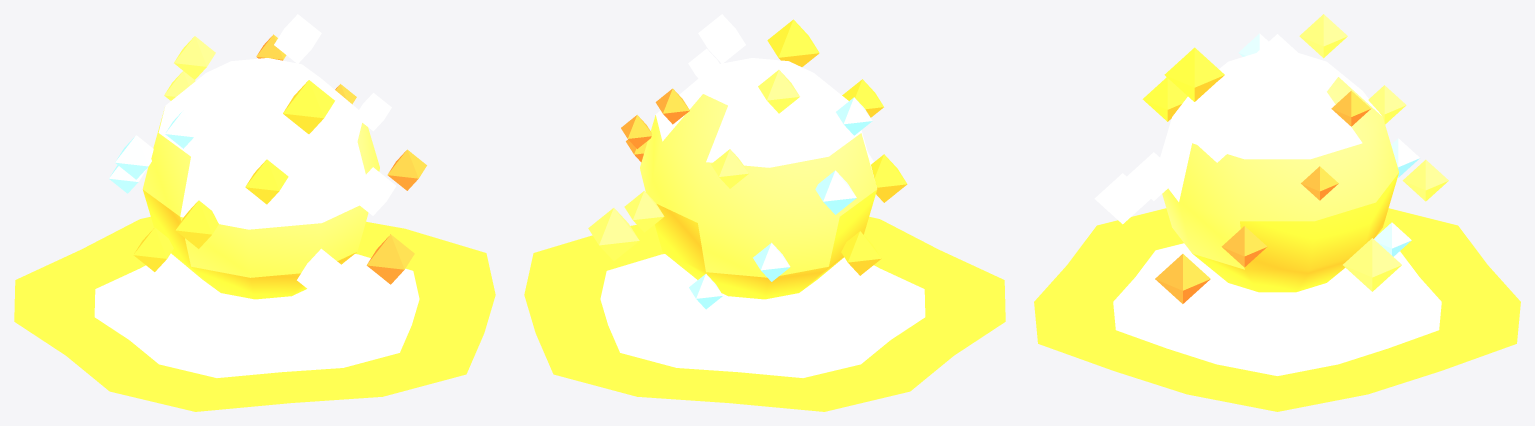
The model's file is star_cluster.glb.
3 renders of one model, left to right at view 1: azimuth 30°, elevation 25°; view 2: azimuth 150°, elevation 25°; view 3: azimuth 270°, elevation 25°, orthographic.
Visible parts, largest first — view 1: body; view 2: body; view 3: body.
Boxes of the visible parts, bbox=[...] form: body: bbox=[14, 14, 495, 411]; body: bbox=[524, 14, 1005, 411]; body: bbox=[1034, 14, 1520, 411].
Size of the model in its own units: 161 by 104 by 160.
